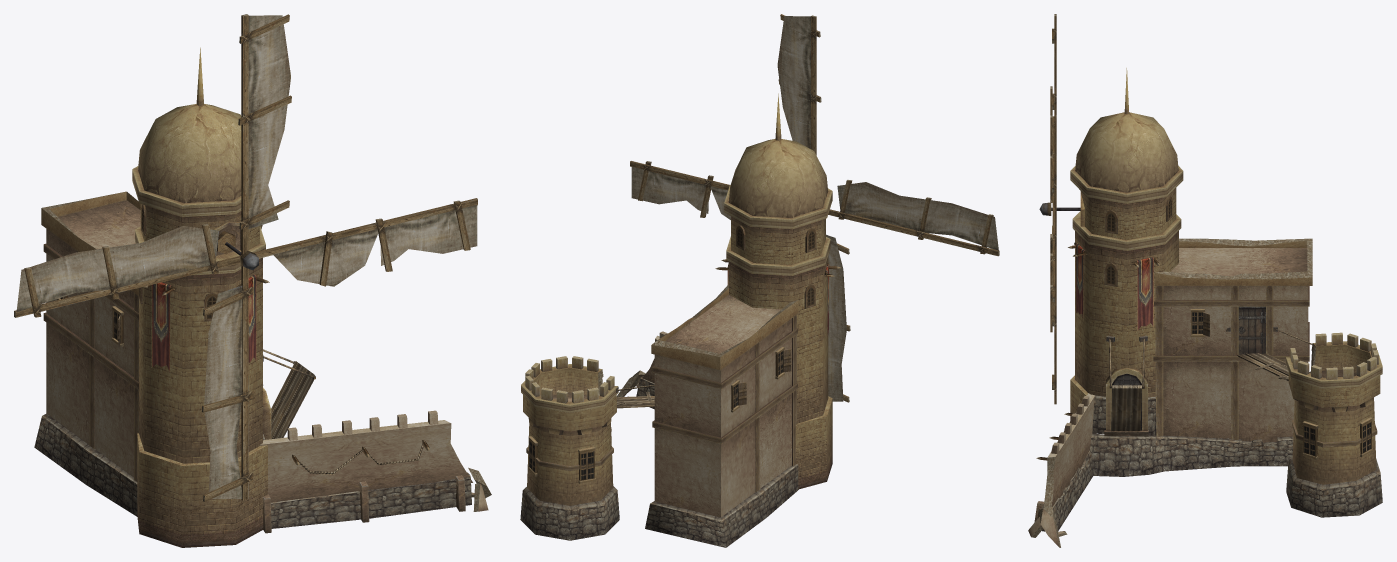
Rendered from SC_tamalagebi_08.FBX.
3 renders of one model, left to right at view 1: azimuth 30°, elevation 25°; view 2: azimuth 150°, elevation 25°; view 3: azimuth 270°, elevation 25°, orthographic. The views are drawn at different scales.
Parts seen in each view (by area): view 1: SC_tamalagebi_08, SC_tamalagebi_08_zhuan; view 2: SC_tamalagebi_08, SC_tamalagebi_08_zhuan; view 3: SC_tamalagebi_08, SC_tamalagebi_08_zhuan.
Part boxes in pixels (left/top/right/bottom): SC_tamalagebi_08: left=34, top=47, right=491, bottom=547; SC_tamalagebi_08_zhuan: left=14, top=14, right=477, bottom=501; SC_tamalagebi_08: left=520, top=93, right=841, bottom=547; SC_tamalagebi_08_zhuan: left=630, top=14, right=999, bottom=402; SC_tamalagebi_08: left=1028, top=68, right=1382, bottom=547; SC_tamalagebi_08_zhuan: left=1039, top=14, right=1080, bottom=404.
Size of the model in its own units: 1794 by 1945 by 1429.
